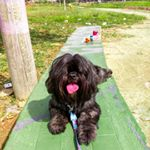puppy: (44, 49, 120, 150)
